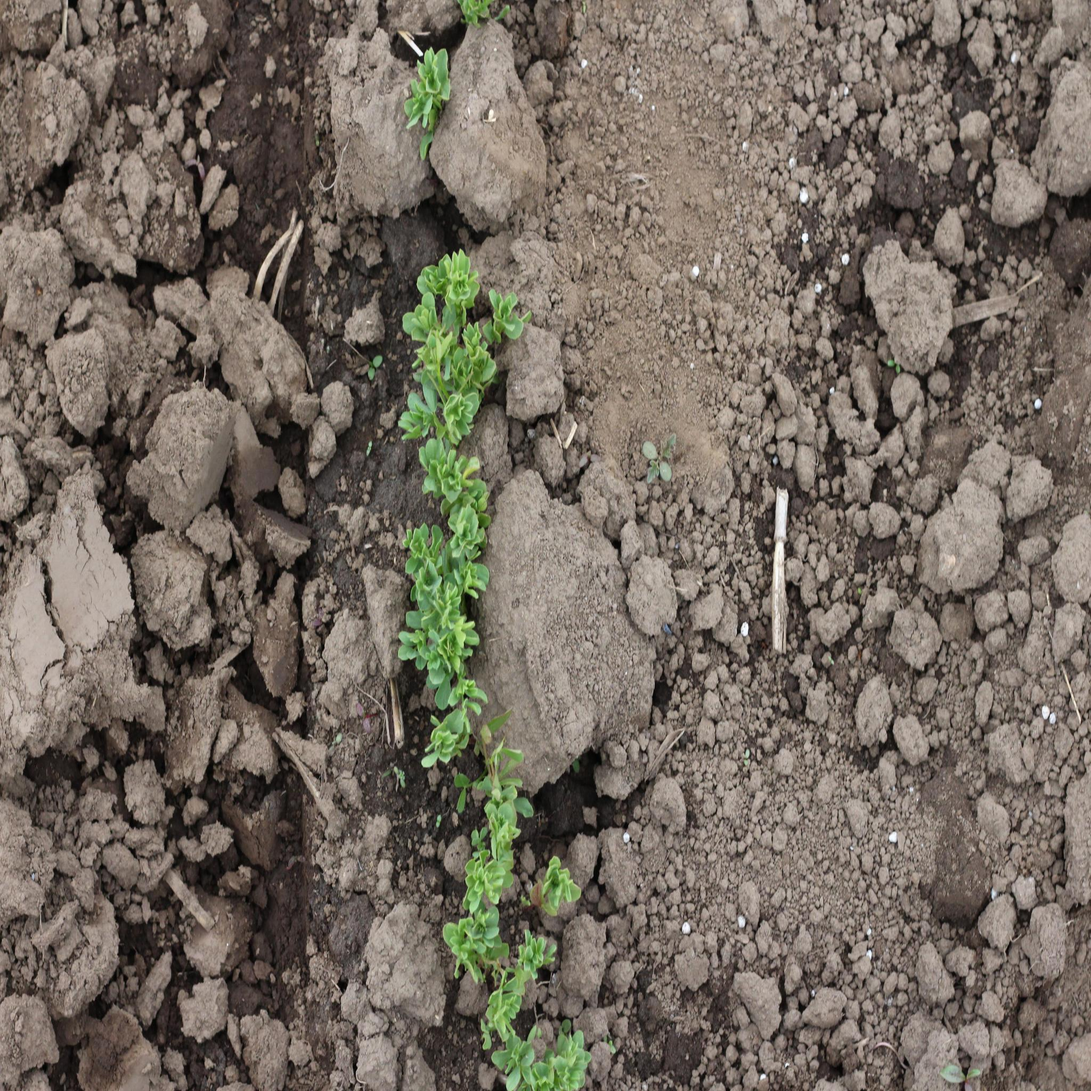AMBEL: (637, 431, 679, 489), (367, 353, 384, 383), (394, 763, 407, 791)
LENCU: (399, 598, 478, 683), (404, 42, 453, 148), (443, 906, 507, 981), (400, 522, 443, 602), (415, 249, 480, 301), (419, 445, 480, 500), (398, 371, 443, 445), (479, 975, 525, 1045), (448, 319, 495, 387), (419, 709, 470, 770), (460, 853, 512, 912), (490, 1043, 555, 1090), (404, 299, 446, 368), (482, 787, 526, 851), (446, 504, 493, 559), (544, 851, 582, 918), (481, 289, 525, 345), (443, 386, 483, 444), (518, 928, 558, 979), (556, 1028, 589, 1089), (443, 561, 492, 596)
POLPE: (937, 1063, 986, 1090), (355, 698, 373, 736), (186, 153, 206, 182), (576, 452, 604, 469), (311, 605, 324, 629)
